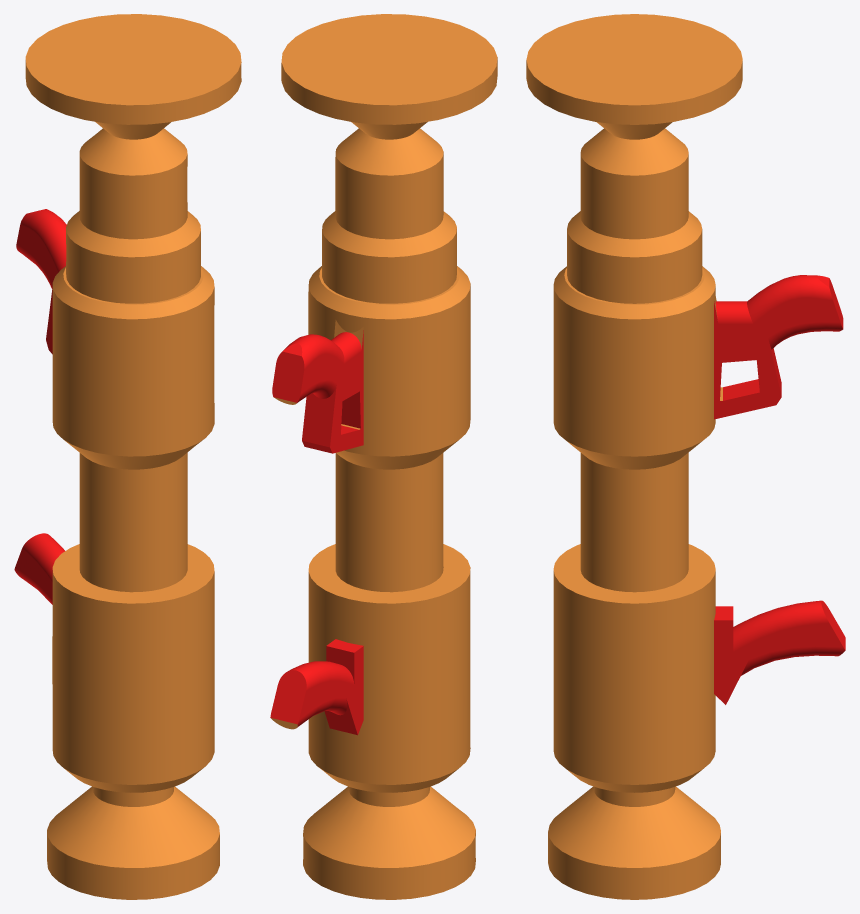
File: RPG.fbx
The picture shows the model from 3 angles, left to right: view 1: azimuth 30°, elevation 25°; view 2: azimuth 150°, elevation 25°; view 3: azimuth 270°, elevation 25°; orthographic projection.
Visible parts, largest first — view 1: RPG; view 2: RPG; view 3: RPG.
Boxes of the visible parts, x1,y1,x2,y2 form: RPG: [14, 14, 241, 899]; RPG: [270, 14, 497, 899]; RPG: [526, 14, 845, 899].
Size of the model in its own units: 200 by 820 by 295.
